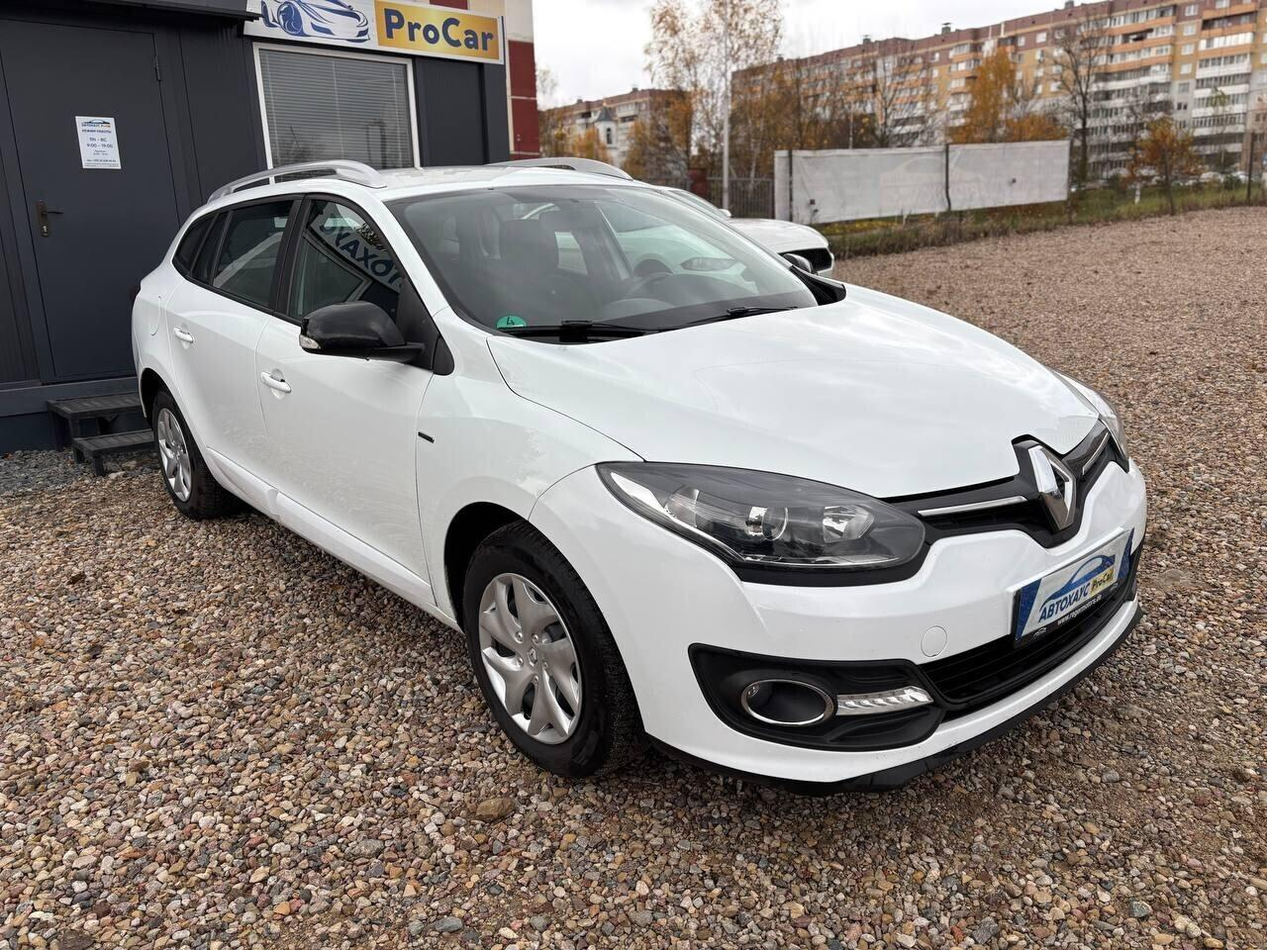Megane_2014-2016: (129, 161, 1158, 787)
